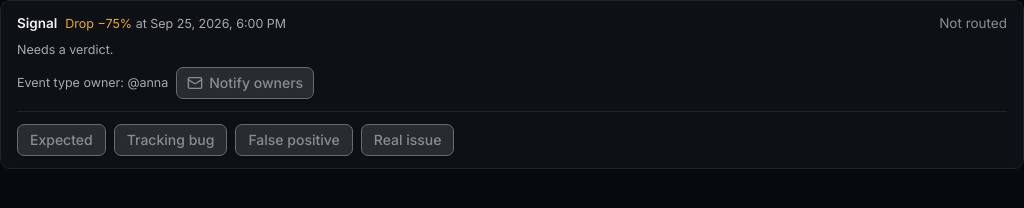
Test: SignalVerdictCard owners (F07, #260) › emails the owners of an unrouted signal on request
Expected: the text "Event type owner: @anna" is shown, x1=17 y1=74 x2=168 y2=92
Step 1. Click the button with aria-label "Notify owners of signup_completed by email" → click(245, 83), box x1=176 y1=67 x2=314 y2=99
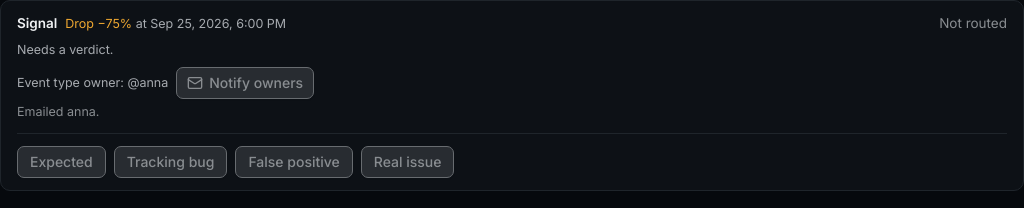
Expected: the text "Emailed anna." is shown, x1=17 y1=104 x2=99 y2=119
